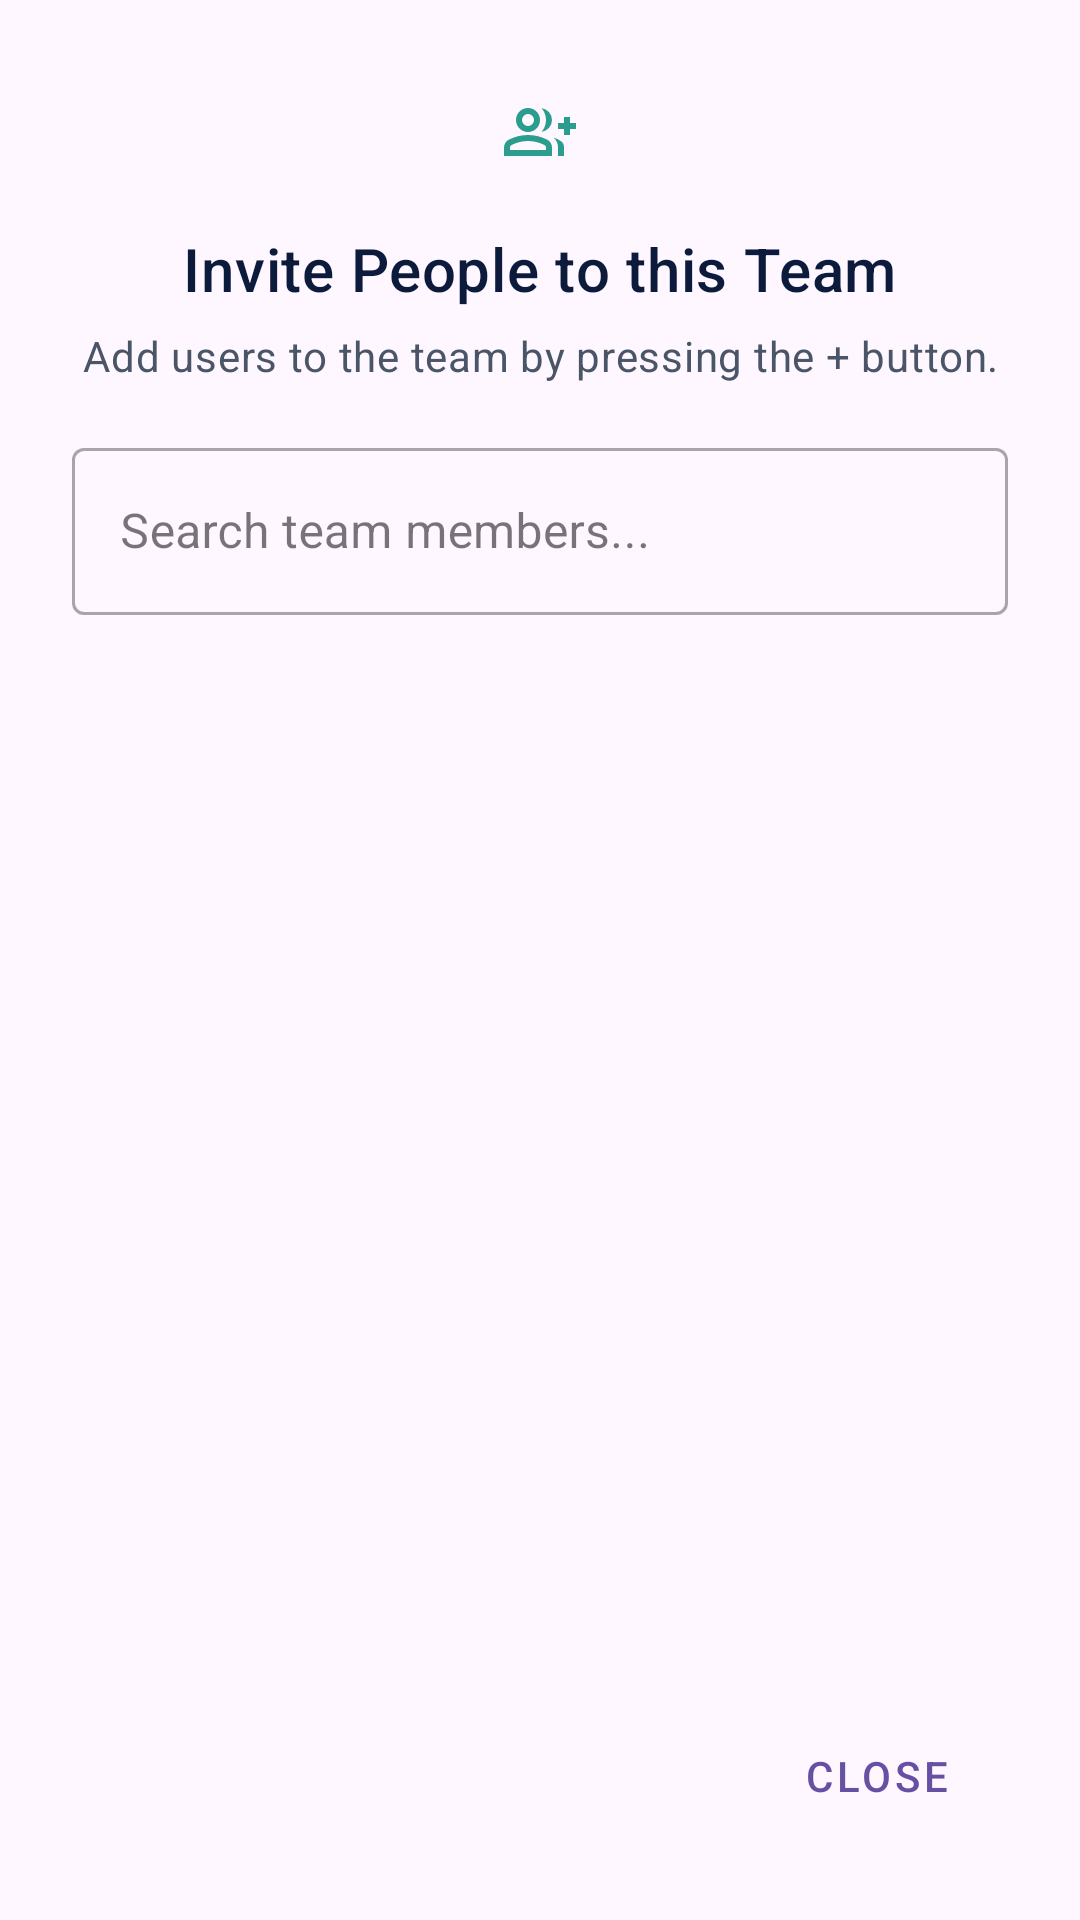

Where to tap for icons on this 1080w x 1920h app screen, as (x=x, y=y):
group join: (x=540, y=132)
